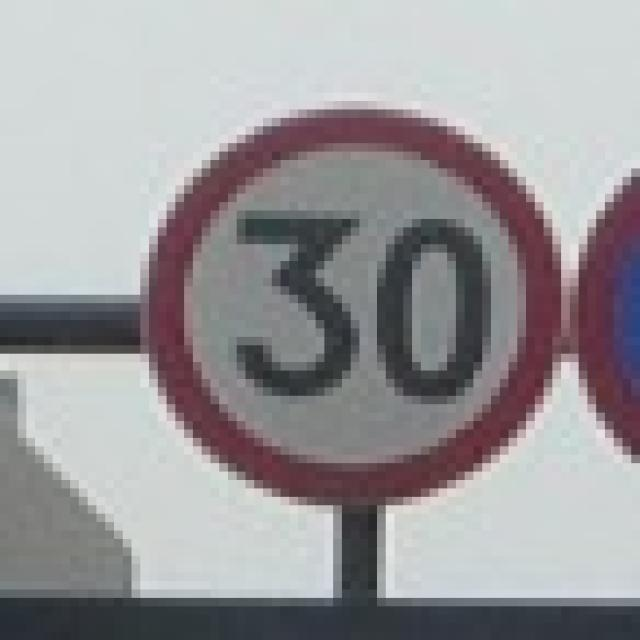Speed Limit -30-: (228, 208, 495, 410)
